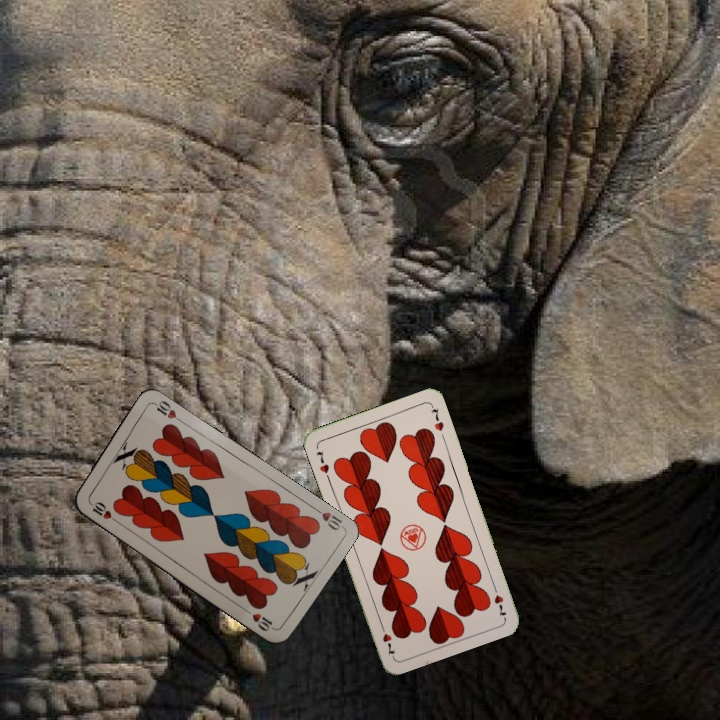H10: (309, 503, 345, 533), (85, 498, 121, 526)
H7: (488, 581, 508, 619), (312, 446, 332, 483)
